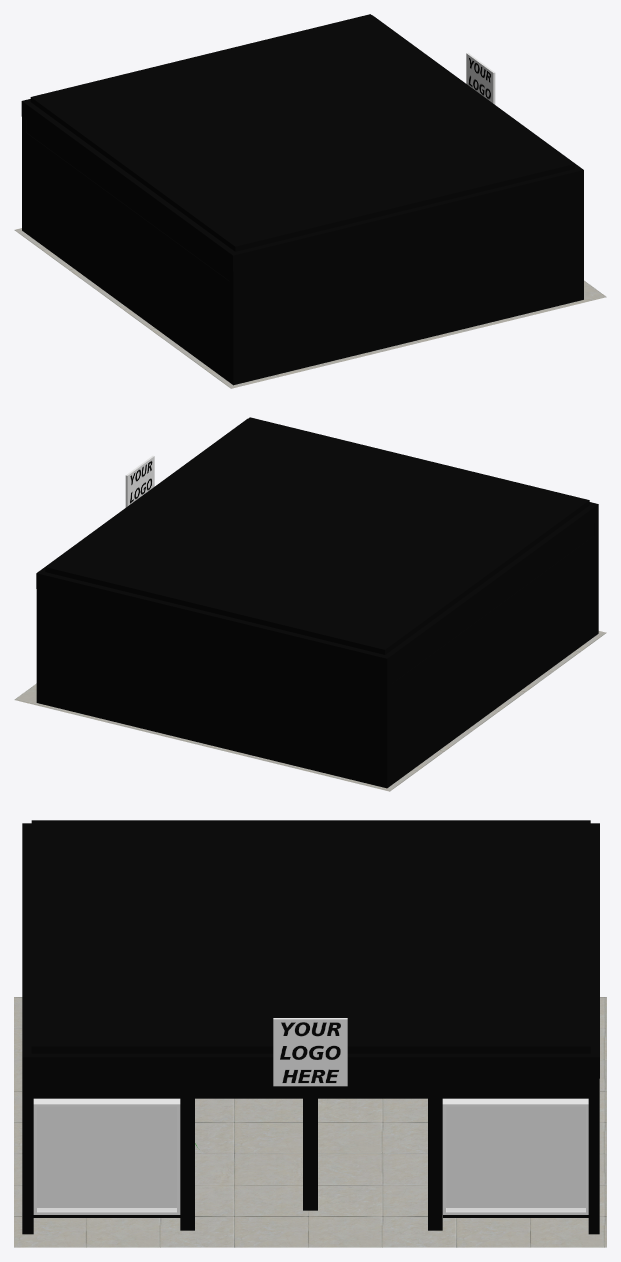
The model's file is store.gltf.
3 views of the same model, one above another, from view 1: azimuth 30°, elevation 25°; view 2: azimuth 150°, elevation 25°; view 3: azimuth 270°, elevation 25° (orthographic). The views are drawn at different scales.
Parts seen in each view (by area): view 1: ceiling2, Walls.002, Ground, ceiling2.001, Plane; view 2: ceiling2, Walls.002, Ground, ceiling2.001, Plane; view 3: ceiling2, Ground, Cube.005, Cube.004, Plane.006, Plane.007, ceiling2.001, Plane, Walls.002, Cube.006, Cube.007, Cube.
Part boxes in pixels (left/top/right/bottom): ceiling2: left=21, top=14, right=583, bottom=270; Walls.002: left=22, top=117, right=583, bottom=385; Ground: left=14, top=228, right=606, bottom=388; ceiling2.001: left=26, top=120, right=229, bottom=280; Plane: left=466, top=53, right=495, bottom=104; ceiling2: left=36, top=417, right=598, bottom=674; Walls.002: left=36, top=520, right=598, bottom=788; Ground: left=14, top=631, right=606, bottom=791; ceiling2.001: left=391, top=523, right=593, bottom=683; Plane: left=125, top=455, right=154, bottom=507; ceiling2: left=22, top=820, right=599, bottom=1078; Ground: left=14, top=997, right=606, bottom=1247; Cube.005: left=33, top=1098, right=180, bottom=1214; Cube.004: left=442, top=1098, right=588, bottom=1214; Plane.006: left=37, top=1107, right=176, bottom=1211; Plane.007: left=447, top=1107, right=585, bottom=1211; ceiling2.001: left=30, top=1078, right=590, bottom=1098; Plane: left=273, top=1018, right=347, bottom=1086; Walls.002: left=22, top=1078, right=599, bottom=1234; Cube.006: left=180, top=1098, right=194, bottom=1230; Cube.007: left=428, top=1098, right=442, bottom=1230; Cube: left=303, top=1098, right=317, bottom=1210.
Size of what is drawn, in the model's own units: 16 by 6.49 by 16.
Materials: 9 (5 with a texture image).
